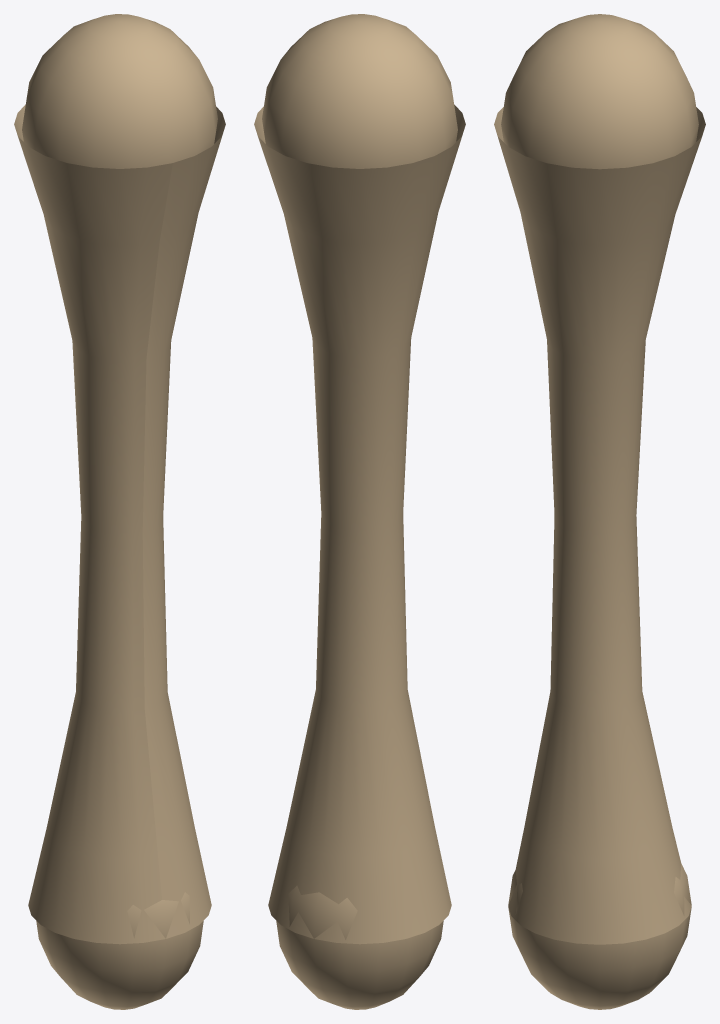
The model's file is right_metatarsal_2.glb.
3 renders of one model, left to right at view 1: azimuth 30°, elevation 25°; view 2: azimuth 150°, elevation 25°; view 3: azimuth 270°, elevation 25°, orthographic.
Parts seen in each view (by area): view 1: right_metatarsal_2:diaphysis, right_metatarsal_2:proximal-envelope, right_metatarsal_2:distal-envelope; view 2: right_metatarsal_2:diaphysis, right_metatarsal_2:proximal-envelope, right_metatarsal_2:distal-envelope; view 3: right_metatarsal_2:diaphysis, right_metatarsal_2:proximal-envelope, right_metatarsal_2:distal-envelope.
Part boxes in pixels (x1=…): right_metatarsal_2:diaphysis: x1=14, y1=105, x2=225, y2=944; right_metatarsal_2:proximal-envelope: x1=22, y1=14, x2=217, y2=168; right_metatarsal_2:distal-envelope: x1=36, y1=892, x2=203, y2=1009; right_metatarsal_2:diaphysis: x1=254, y1=105, x2=465, y2=944; right_metatarsal_2:proximal-envelope: x1=262, y1=14, x2=457, y2=168; right_metatarsal_2:distal-envelope: x1=276, y1=885, x2=443, y2=1009; right_metatarsal_2:diaphysis: x1=494, y1=107, x2=705, y2=944; right_metatarsal_2:proximal-envelope: x1=501, y1=14, x2=698, y2=169; right_metatarsal_2:distal-envelope: x1=508, y1=864, x2=691, y2=1009.
Bounding box in the file's own units: 0.0864 × 0.4416 × 0.0864.
